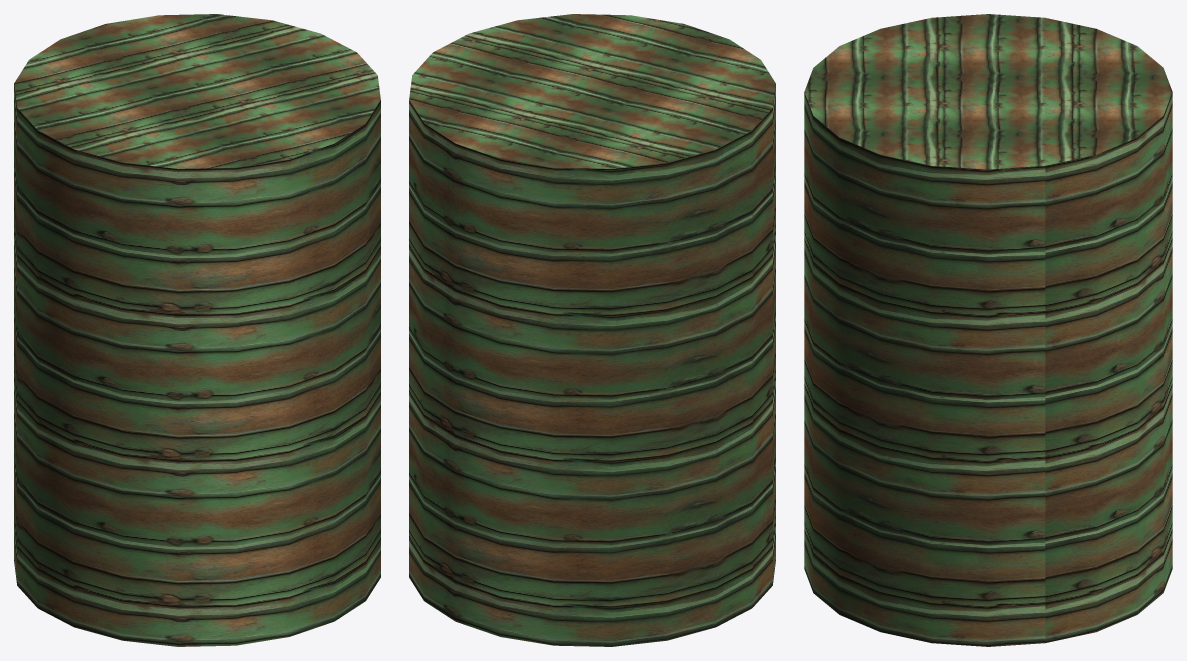
The model's file is Barrel.fbx.
3 views of the same model, side by side, from view 1: azimuth 30°, elevation 25°; view 2: azimuth 150°, elevation 25°; view 3: azimuth 270°, elevation 25° (orthographic).
Visible parts, largest first — view 1: Barrel; view 2: Barrel; view 3: Barrel.
Part boxes in pixels (x1,y1,x2,y2): Barrel: [14, 14, 380, 646]; Barrel: [409, 14, 775, 646]; Barrel: [804, 14, 1172, 646].
Size of the model in its own units: 2250 by 3218 by 2250.
1 material, 1 textured.
